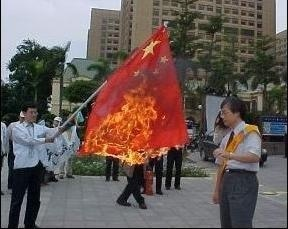fire: (80, 80, 182, 166)
